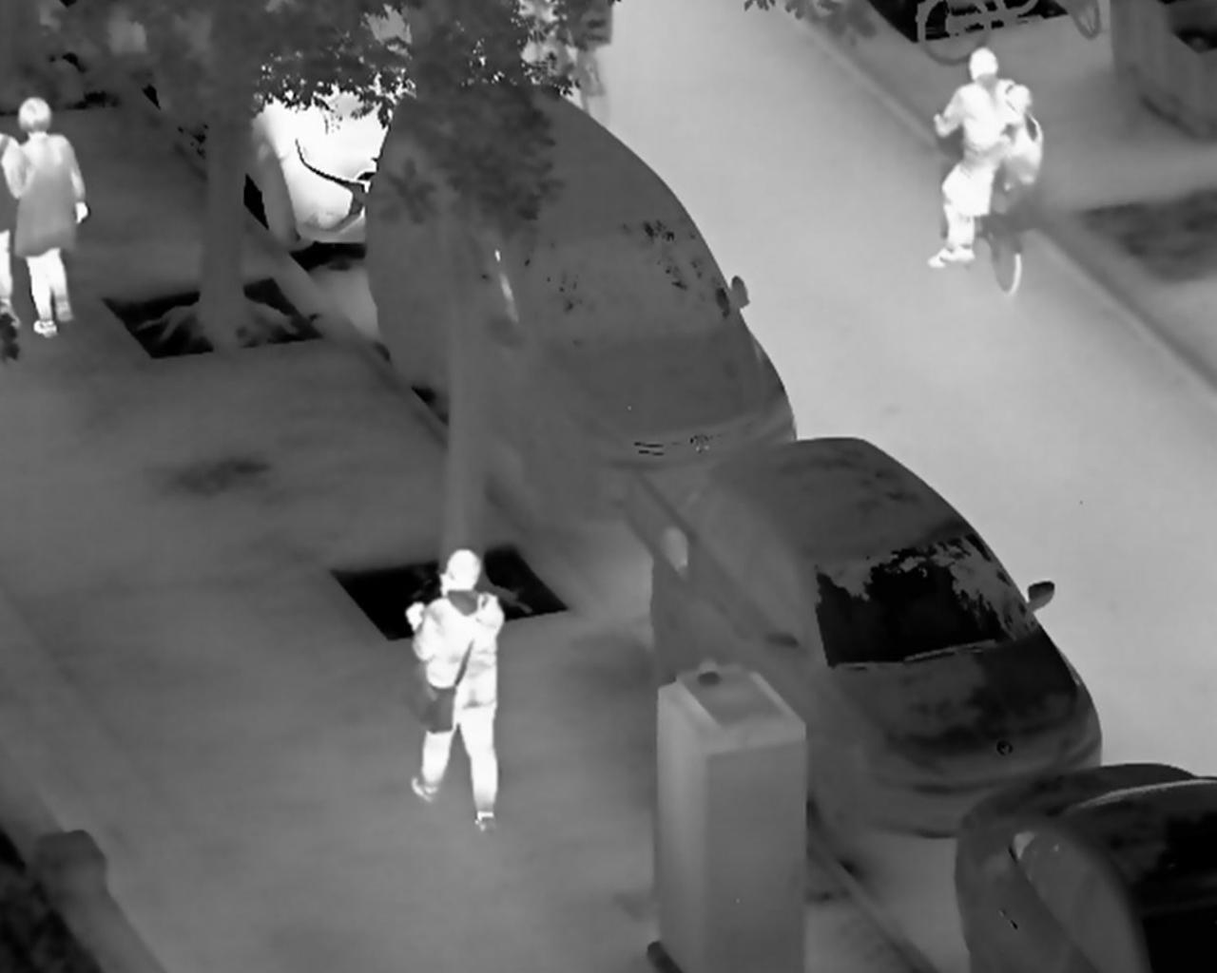person: (407, 544, 503, 833), (929, 81, 1050, 268), (11, 90, 91, 339), (934, 39, 1014, 223)
